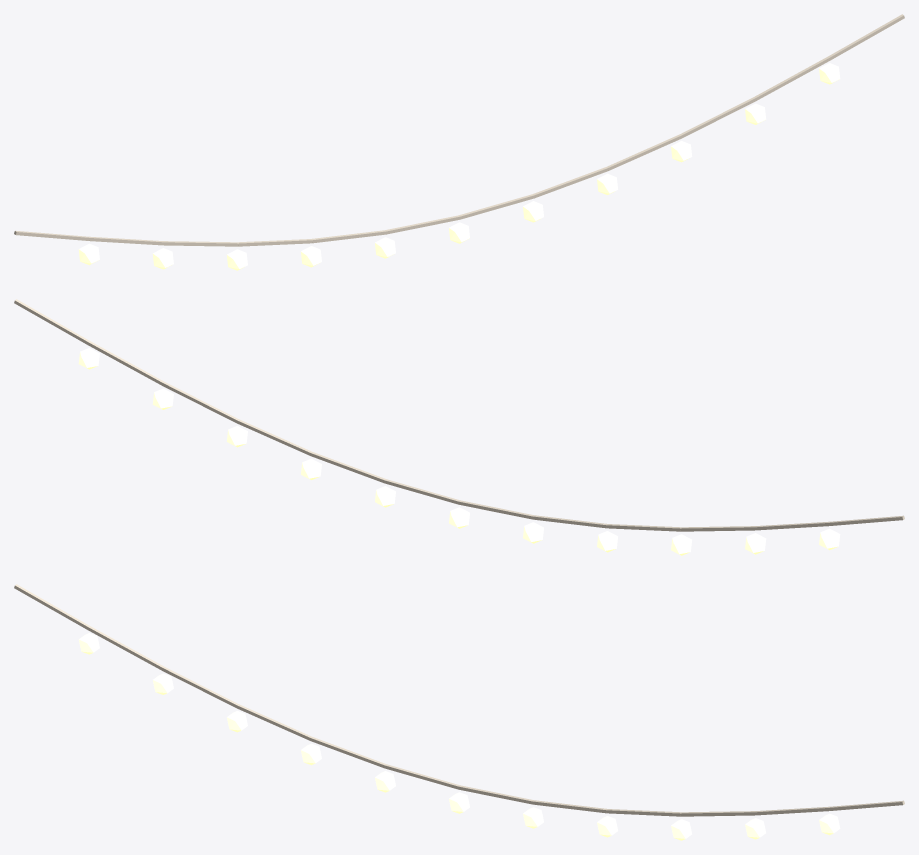
The model's file is SM_VK_Prop_Festoon.fbx.
3 renders of one model, top to bottom at view 1: azimuth 30°, elevation 25°; view 2: azimuth 150°, elevation 25°; view 3: azimuth 330°, elevation 25°, orthographic.
Visible parts, largest first — view 1: SM_VK_Prop_Festoon.001; view 2: SM_VK_Prop_Festoon.001; view 3: SM_VK_Prop_Festoon.001.
Boxes of the visible parts, x1=… form: SM_VK_Prop_Festoon.001: x1=14, y1=14, x2=904, y2=270; SM_VK_Prop_Festoon.001: x1=14, y1=299, x2=904, y2=555; SM_VK_Prop_Festoon.001: x1=14, y1=584, x2=904, y2=840.
Size of the model in its own units: 6.01 by 0.7796 by 0.1191.
